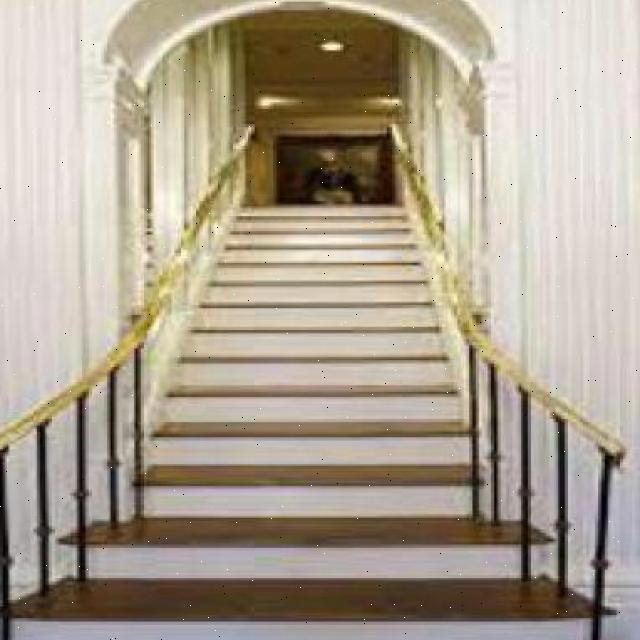stair: (137, 297, 513, 576)
